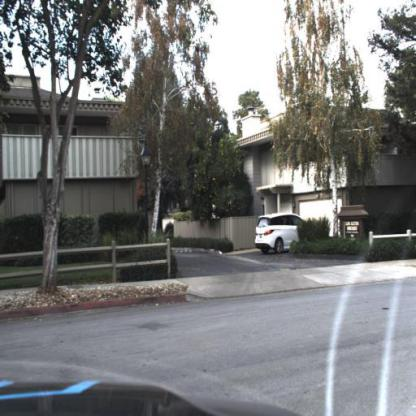car: (252, 212, 307, 254), (256, 213, 308, 255)
